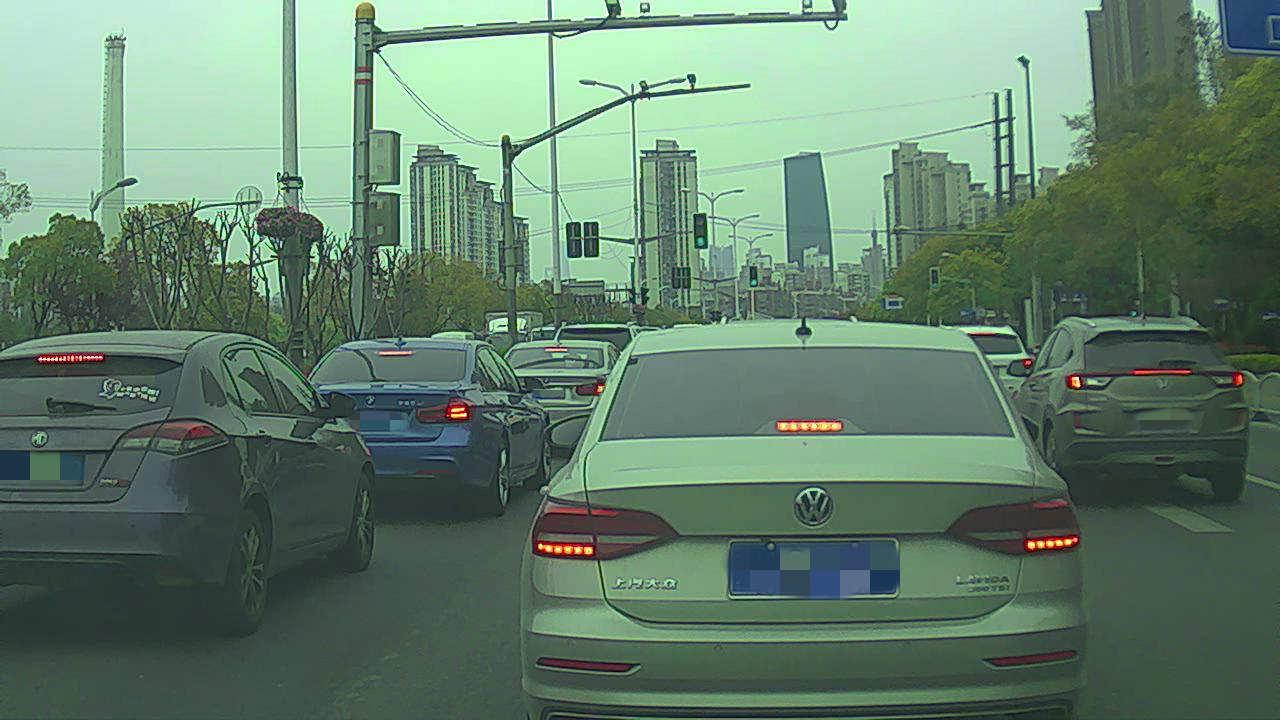traffic_light: (694, 213, 709, 249), (748, 262, 760, 288)
